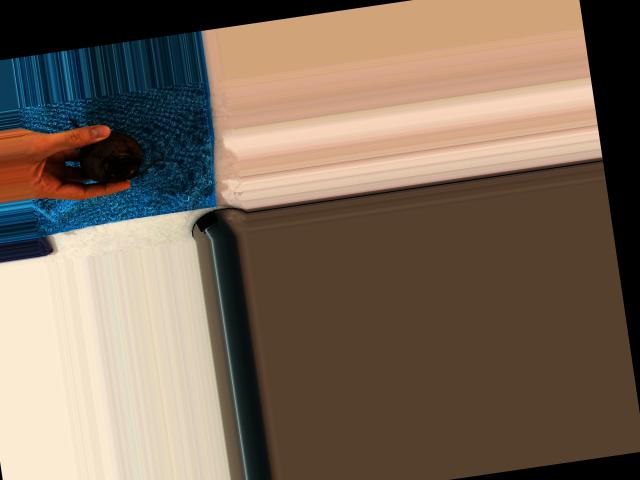beet: (69, 104, 166, 186)
